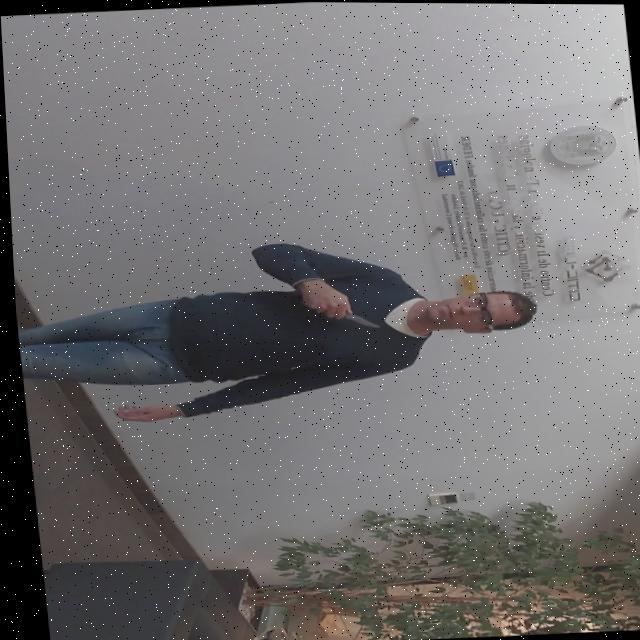knife: (338, 310, 378, 332)
